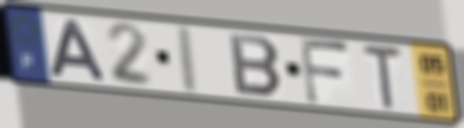2: (104, 20, 156, 90)
A: (48, 17, 111, 84)
B: (227, 31, 286, 100)
F: (297, 35, 354, 108)
I: (178, 23, 202, 97)
T: (360, 42, 405, 112)
